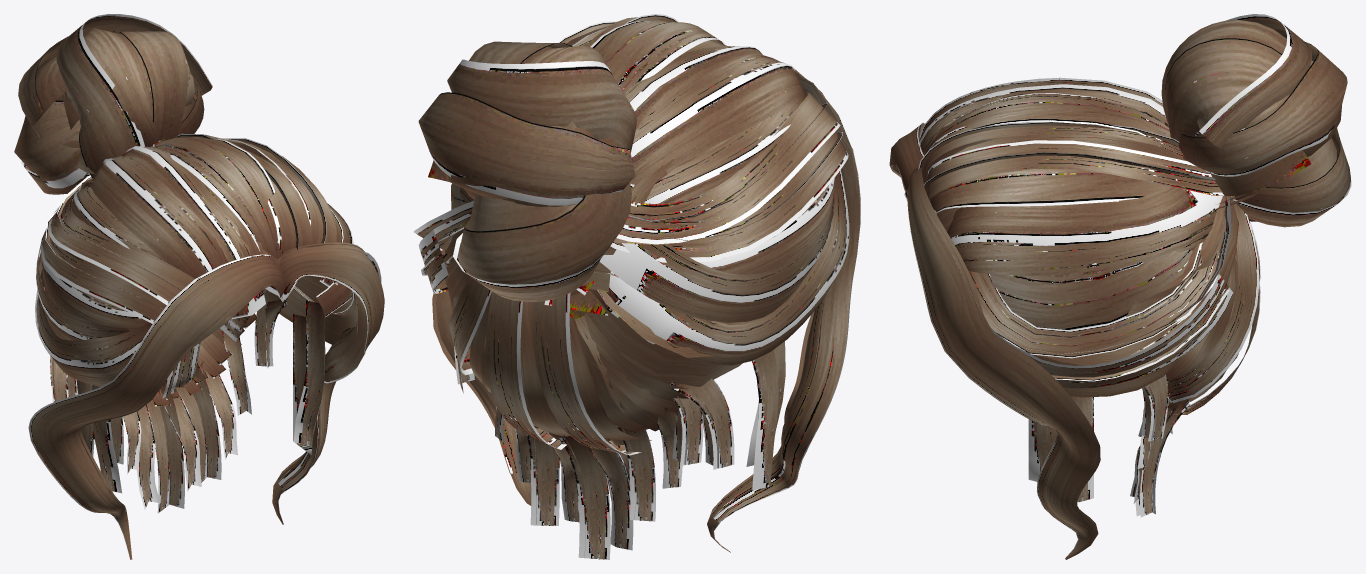
File: Hair_Blender 3.FBX
The picture shows the model from 3 angles, left to right: view 1: azimuth 30°, elevation 25°; view 2: azimuth 150°, elevation 25°; view 3: azimuth 270°, elevation 25°; orthographic projection. The views are drawn at different scales.
Parts seen in each view (by area): view 1: Object015, Cut001; view 2: Object015, Cut001; view 3: Object015, Cut001.
Part boxes in pixels (bbox=[...]): Object015: bbox=[14, 14, 381, 513]; Cut001: bbox=[28, 34, 384, 559]; Object015: bbox=[413, 14, 849, 559]; Cut001: bbox=[428, 39, 860, 552]; Object015: bbox=[918, 14, 1351, 517]; Cut001: bbox=[889, 60, 1341, 559].
Size of the model in its own units: 29.31 by 39.84 by 34.04.
